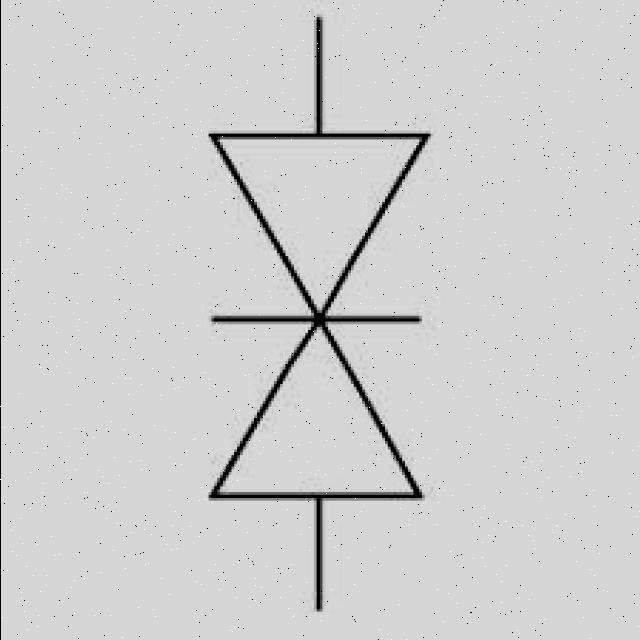Needle Valve: (120, 91, 488, 543)
